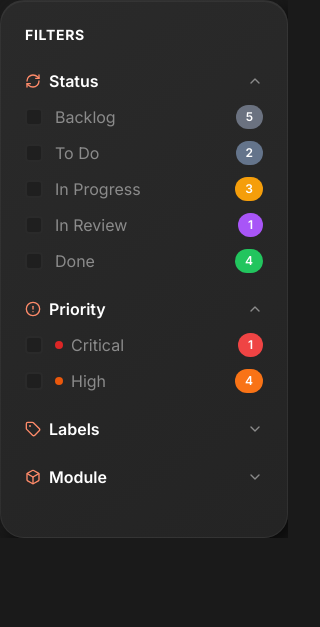
Test case: FilterSidebar › Rendering › should render all module options from database
The width and height of the screenshot is (320, 627).
Note: Module section is collapsed by default - expand it first
Click the button "Module": click(144, 477) [25,465,263,489]
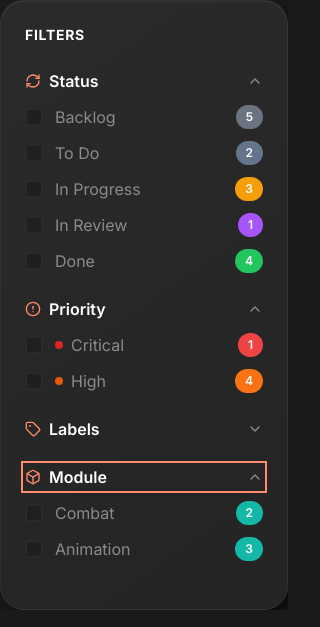
Result: the text "Combat" is shown at [55,503,114,523]
Result: the text "Animation" is shown at [55,539,130,559]
